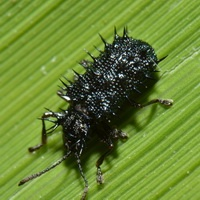insect: (18, 27, 172, 199)
